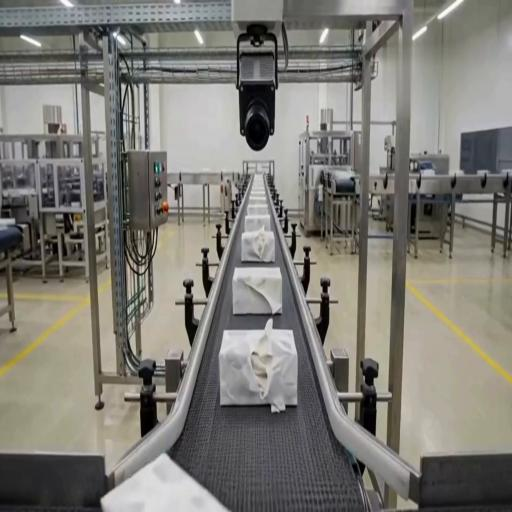defective: (103, 452, 232, 510), (219, 325, 296, 408), (233, 268, 283, 316), (241, 230, 275, 262)
good: (245, 214, 272, 232), (246, 204, 270, 216)
